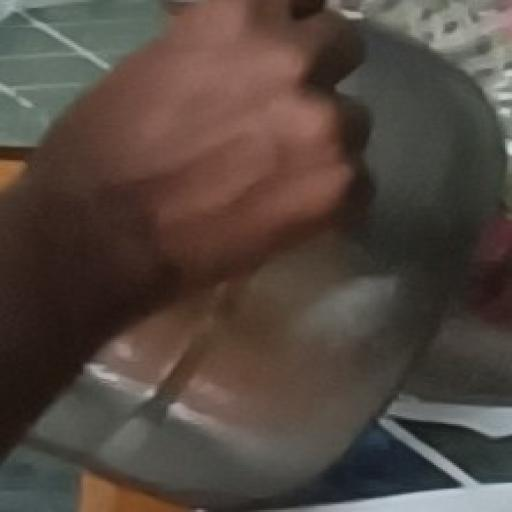vessel: (32, 23, 500, 504)
